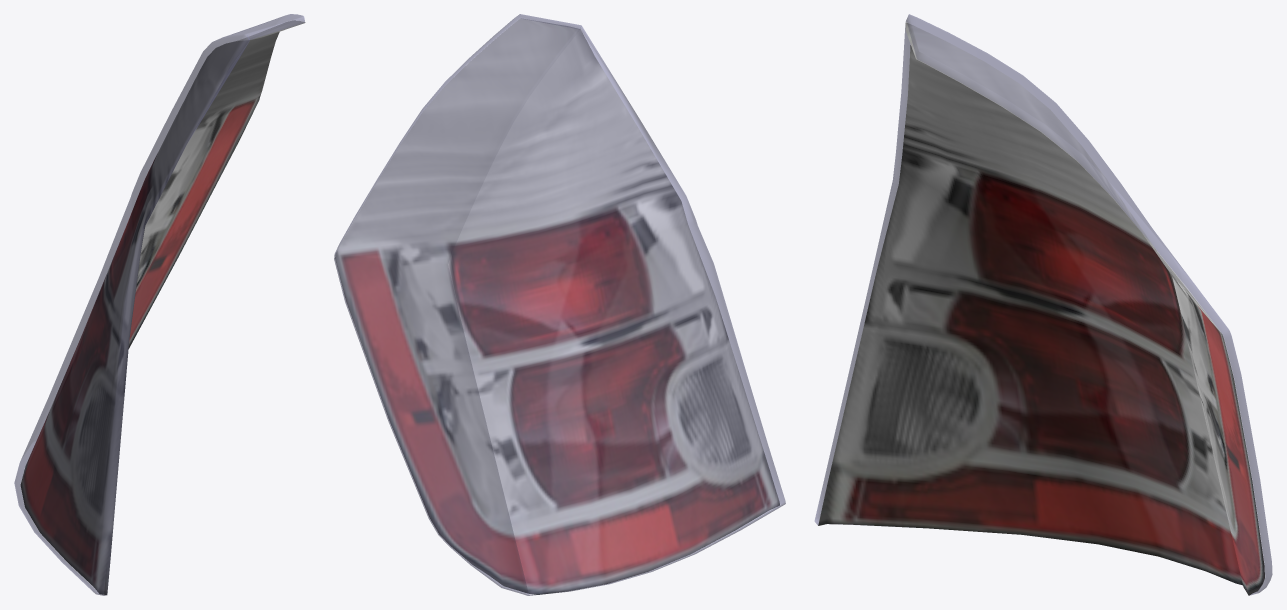
The picture shows the model from 3 angles, left to right: view 1: azimuth 30°, elevation 25°; view 2: azimuth 150°, elevation 25°; view 3: azimuth 270°, elevation 25°; orthographic projection. The views are drawn at different scales.
Visible parts, largest first — view 1: Z177_541C_L_Z177_541C_L_2_N, Z177_541C_L_1_DTaSI_Z177_541C_L; view 2: Z177_541C_L_1_DTaSI_Z177_541C_L, Z177_541C_L_Z177_541C_L_2_N; view 3: Z177_541C_L_Z177_541C_L_2_N, Z177_541C_L_1_DTaSI_Z177_541C_L.
Boxes of the visible parts, box(x1,y1,x2,y2) form: Z177_541C_L_Z177_541C_L_2_N: box(20, 20, 305, 594); Z177_541C_L_1_DTaSI_Z177_541C_L: box(14, 14, 304, 595); Z177_541C_L_1_DTaSI_Z177_541C_L: box(334, 14, 785, 595); Z177_541C_L_Z177_541C_L_2_N: box(335, 18, 779, 594); Z177_541C_L_Z177_541C_L_2_N: box(818, 22, 1264, 595); Z177_541C_L_1_DTaSI_Z177_541C_L: box(814, 14, 1272, 595).
Bounding box in the file's own units: 29.82 × 43.51 × 29.1.
